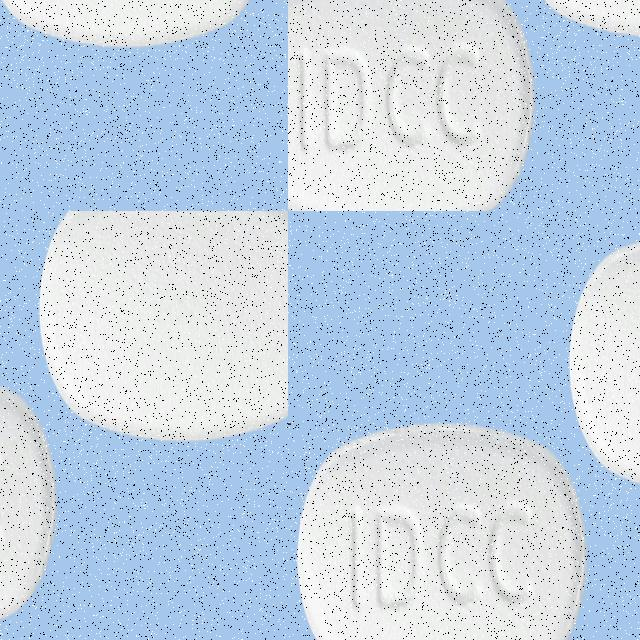Clavit: (0, 461, 108, 640)
Clycin Tab-500mg: (288, 72, 576, 211)
Cycin: (296, 418, 588, 640), (567, 226, 640, 498)
